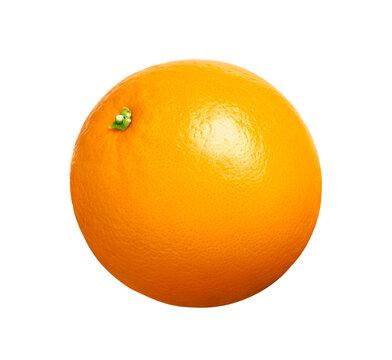non-mango: (68, 55, 324, 312)
